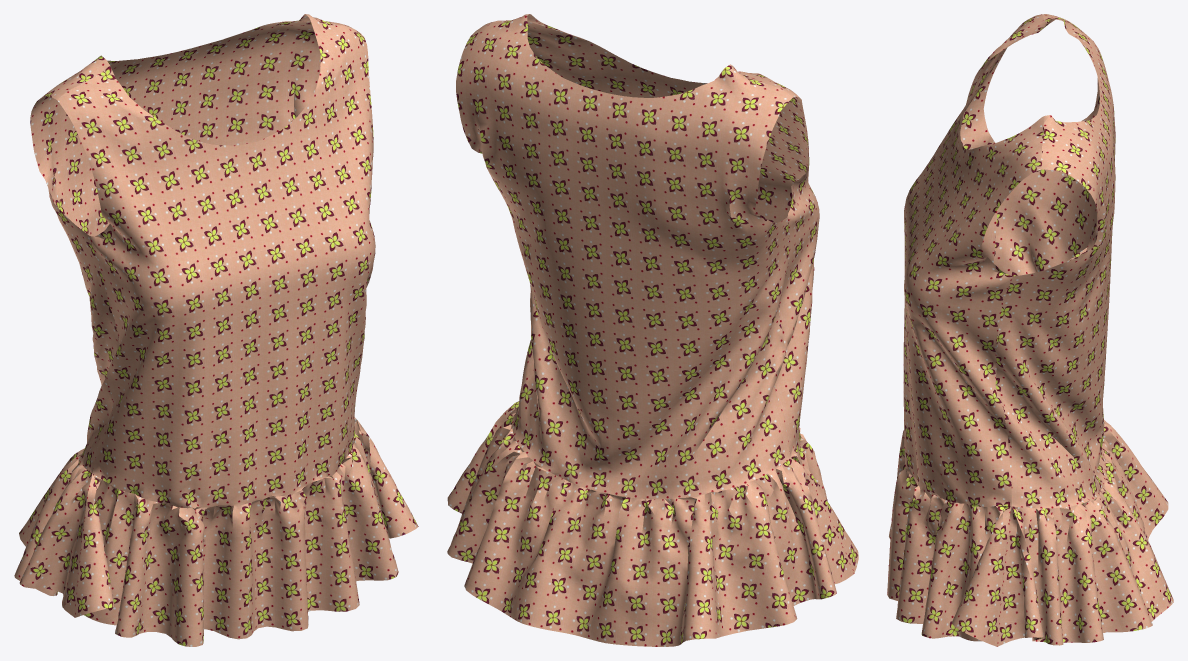
The model's file is avatarsız_Combined.fbx.
The picture shows the model from 3 angles, left to right: view 1: azimuth 30°, elevation 25°; view 2: azimuth 150°, elevation 25°; view 3: azimuth 270°, elevation 25°; orthographic projection. The views are drawn at different scales.
Visible parts, largest first — view 1: 2__Default_Inner_5_1; view 2: 2__Default_Inner_5_1; view 3: 2__Default_Inner_5_1.
Part boxes in pixels (left/top/right/bottom): 2__Default_Inner_5_1: left=14, top=14, right=418, bottom=646; 2__Default_Inner_5_1: left=447, top=14, right=858, bottom=646; 2__Default_Inner_5_1: left=887, top=14, right=1173, bottom=646.
Bounding box in the file's own units: 0.4624 × 0.6354 × 0.3119.
Materials: 1 (1 with a texture image).
